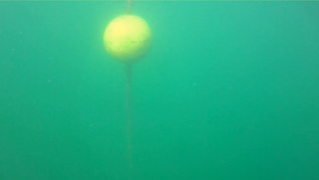buoy: (102, 13, 154, 64)
